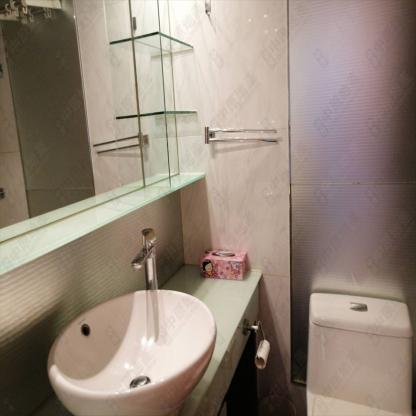Faucet: (129, 224, 161, 292)
Toilet: (305, 292, 412, 415)
Toilet Sink: (46, 286, 214, 414)
